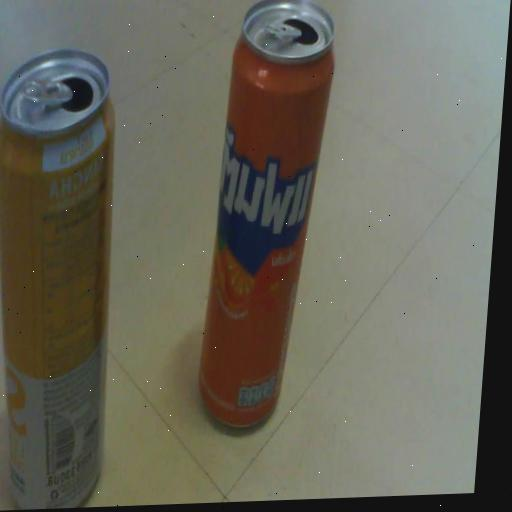canned: (187, 0, 347, 450), (0, 29, 146, 512)
